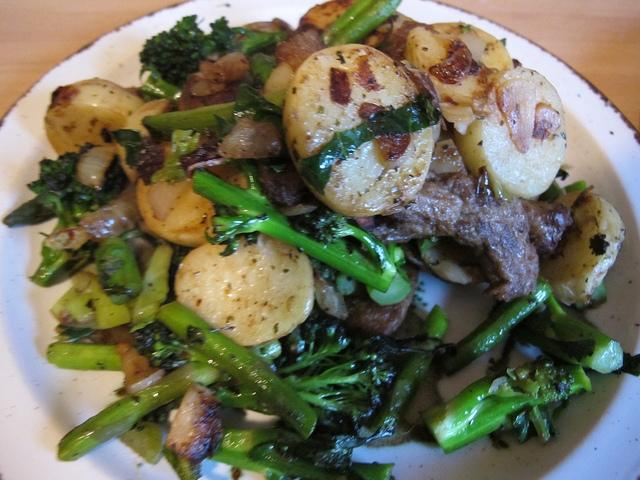broccoli: (193, 158, 398, 292), (158, 301, 318, 442), (422, 356, 594, 453), (58, 361, 222, 461), (364, 304, 450, 445), (438, 274, 553, 376), (140, 14, 290, 88), (2, 153, 127, 232), (282, 345, 398, 423), (513, 294, 623, 374), (142, 89, 286, 143), (211, 428, 350, 480), (128, 244, 172, 334), (94, 228, 145, 305), (322, 0, 402, 46), (46, 344, 122, 370), (250, 52, 278, 84)
potato: (284, 44, 434, 217), (174, 232, 316, 346), (402, 22, 514, 133), (540, 185, 626, 305), (45, 78, 146, 156), (137, 177, 218, 248), (300, 0, 392, 49), (496, 78, 536, 154)
